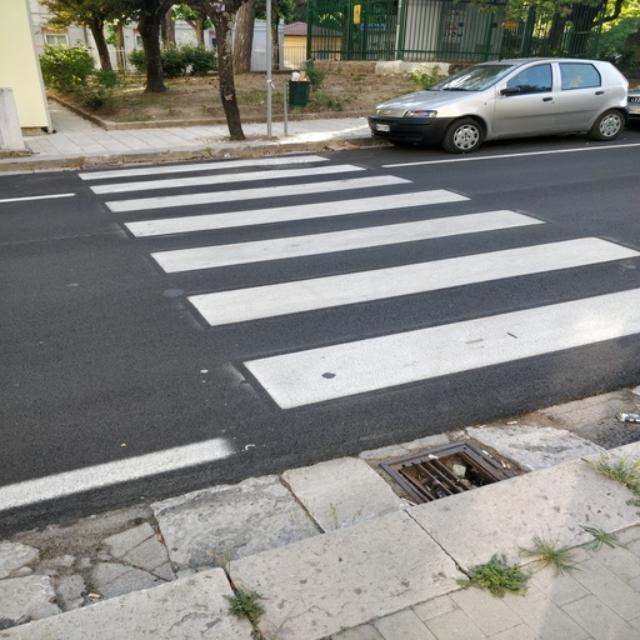sidewalk: (70, 147, 640, 462)
